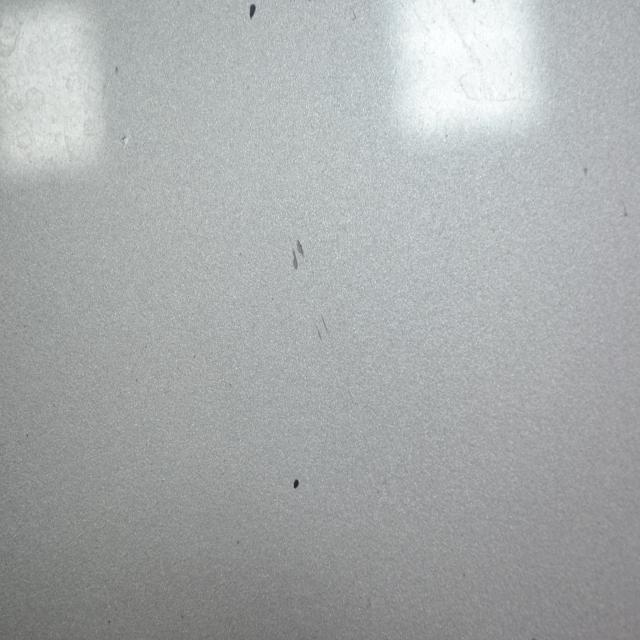dirt: (242, 0, 261, 32), (290, 246, 300, 273), (289, 474, 302, 493), (296, 236, 307, 256), (118, 130, 129, 148), (582, 162, 592, 179), (111, 63, 121, 77)
scratch: (306, 301, 383, 496)
water marks: (452, 0, 523, 84), (410, 10, 455, 138), (56, 66, 106, 142), (456, 61, 518, 118), (2, 76, 48, 149), (53, 114, 89, 170), (0, 14, 29, 62)
